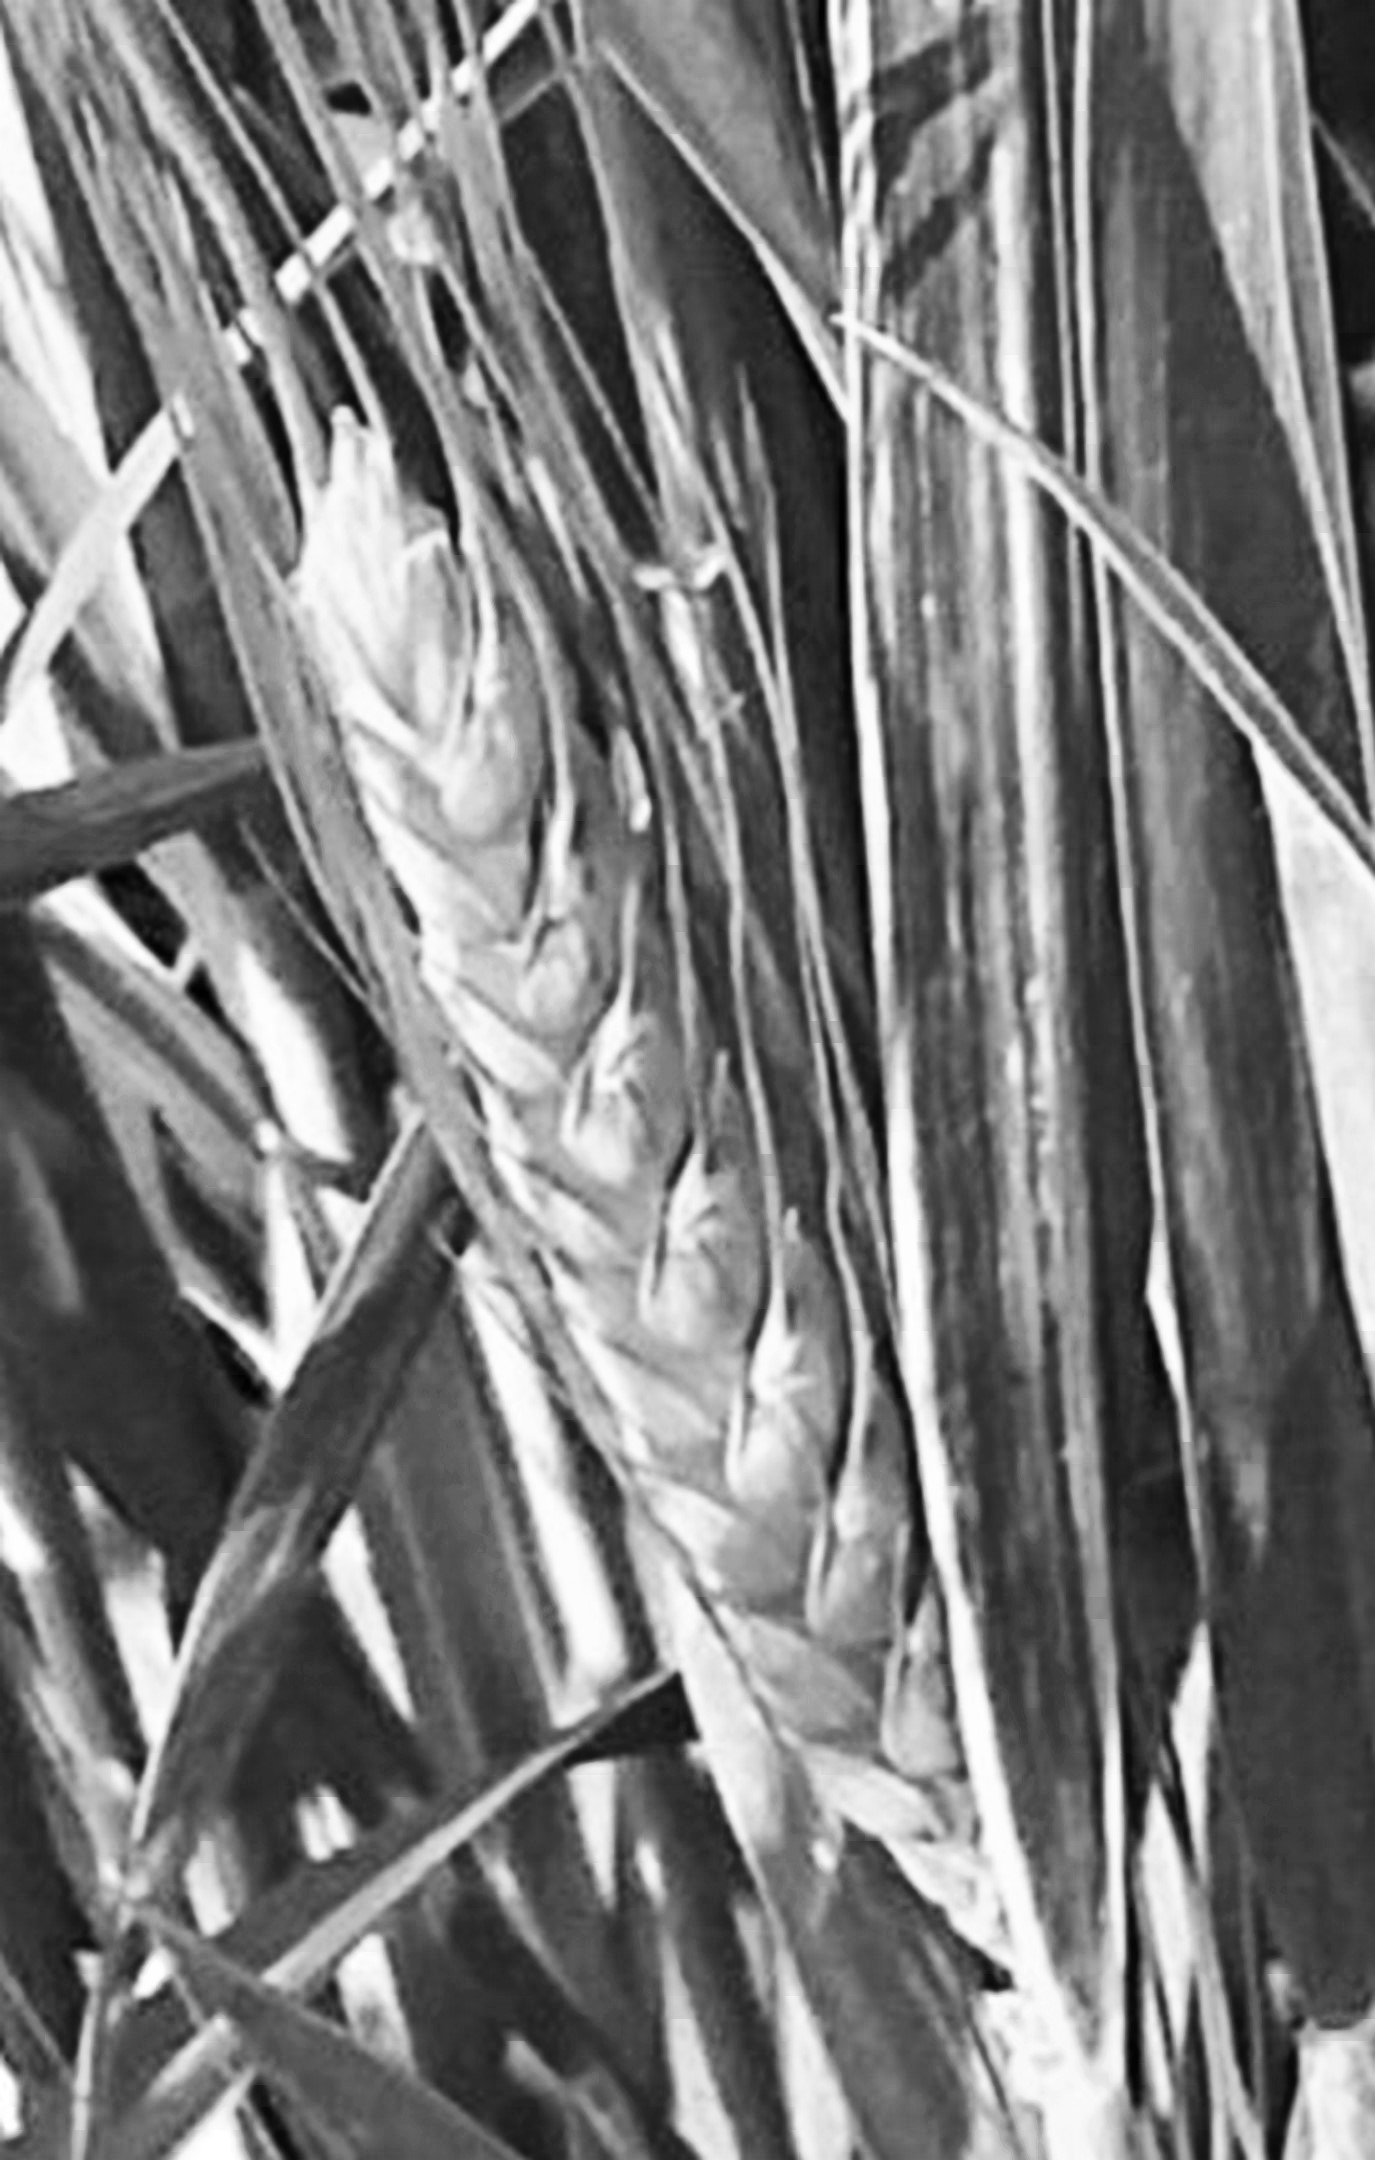Healthy Wheat: (274, 486, 1060, 1782)
